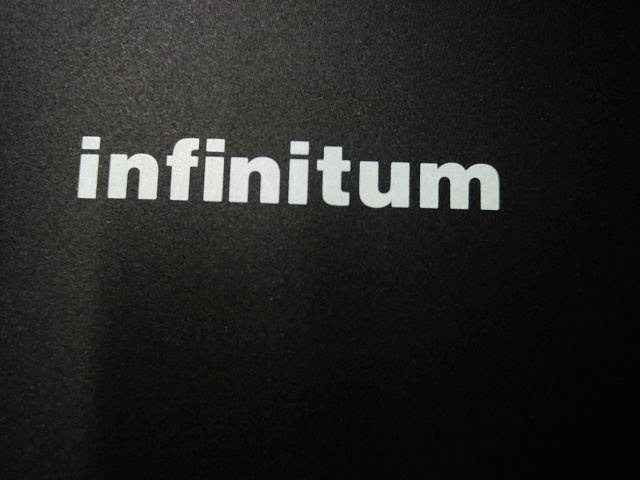BK_infinitum: (73, 117, 516, 228)
